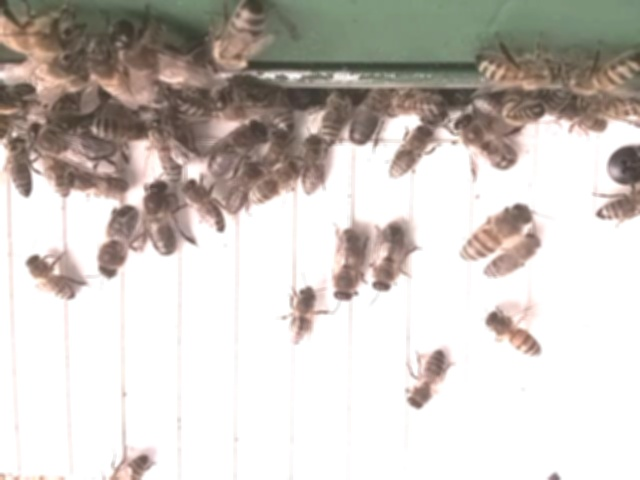Drone: (24, 122, 115, 170), (203, 119, 269, 179), (454, 113, 514, 173), (94, 204, 140, 282), (327, 224, 365, 307), (142, 178, 180, 260), (370, 222, 408, 296), (347, 89, 389, 151)
Worker: (457, 206, 530, 264), (474, 55, 560, 91), (483, 312, 542, 361), (480, 235, 540, 283), (406, 349, 449, 413), (22, 253, 78, 302), (246, 161, 304, 208), (386, 128, 434, 182), (182, 180, 228, 236), (62, 168, 132, 202), (0, 136, 34, 199), (221, 162, 259, 218), (153, 122, 185, 185), (286, 287, 318, 348), (89, 113, 148, 145), (298, 138, 326, 201), (320, 92, 349, 150), (592, 192, 640, 225)
